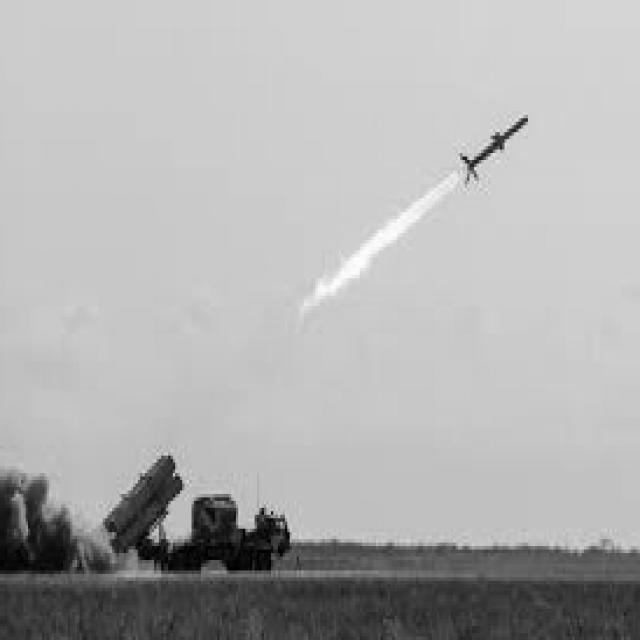missile: (451, 101, 536, 193)
